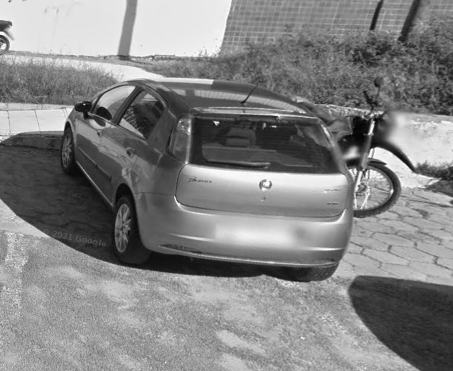car: (60, 72, 357, 287)
